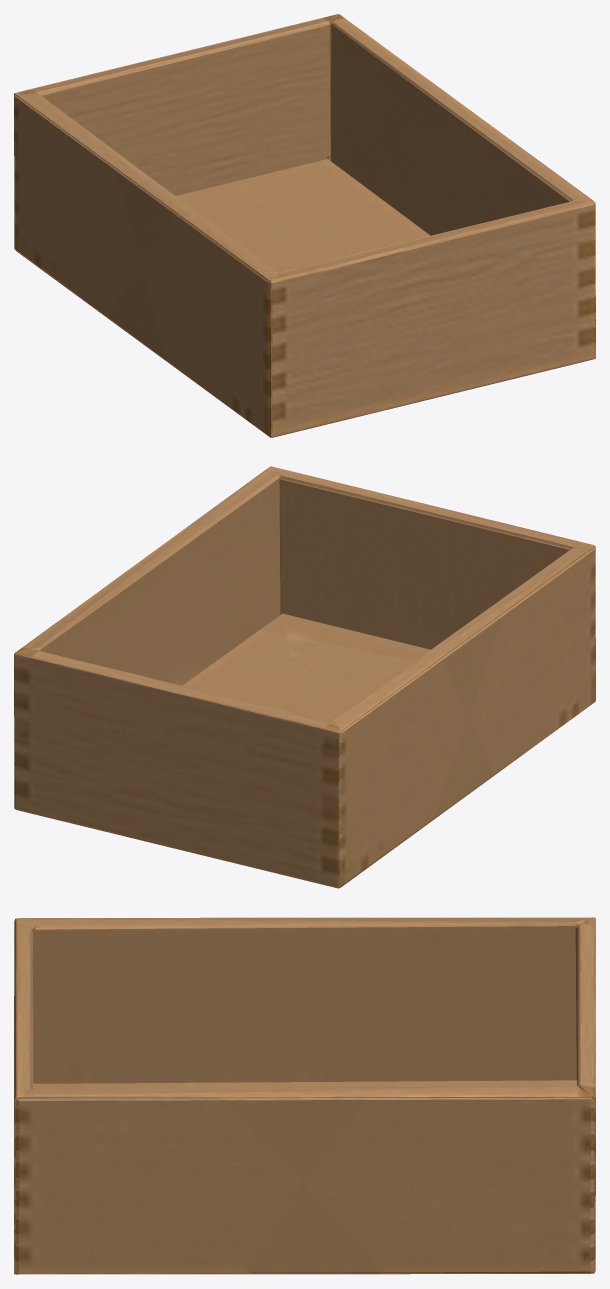
Rendered from stage4_sink_drawer_in.fbx.
3 renders of one model, top to bottom at view 1: azimuth 30°, elevation 25°; view 2: azimuth 150°, elevation 25°; view 3: azimuth 270°, elevation 25°, orthographic. The views are drawn at different scales.
Visible parts, largest first — view 1: stage4_sink_drawer_in; view 2: stage4_sink_drawer_in; view 3: stage4_sink_drawer_in.
Part boxes in pixels (box(x1,y1,x2,y2)): stage4_sink_drawer_in: box(14, 14, 595, 437); stage4_sink_drawer_in: box(14, 466, 595, 888); stage4_sink_drawer_in: box(14, 917, 595, 1274).
Size of the model in its own units: 44.14 by 20.85 by 60.1.
